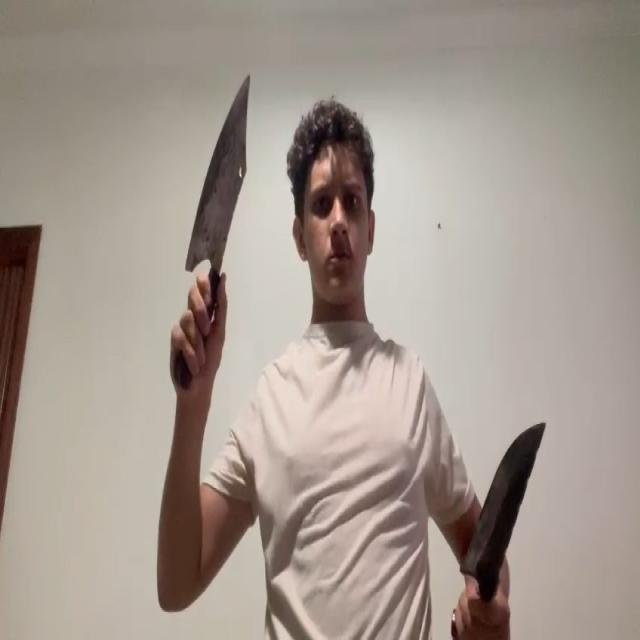knife: (184, 74, 252, 272), (463, 422, 546, 574)
